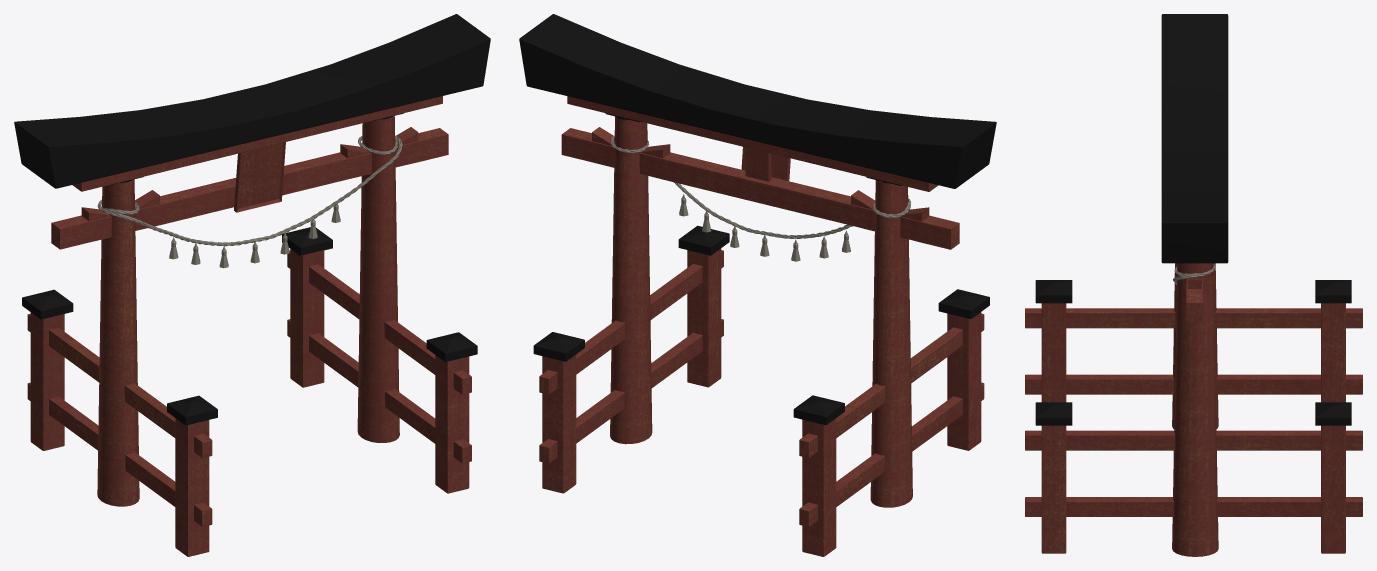
Rendered from tori_gate.fbx.
3 renders of one model, left to right at view 1: azimuth 30°, elevation 25°; view 2: azimuth 150°, elevation 25°; view 3: azimuth 270°, elevation 25°, orthographic. The views are drawn at different scales.
Visible parts, largest first — view 1: tori_gate_low; view 2: tori_gate_low; view 3: tori_gate_low.
Boxes of the visible parts, x1,y1,x2,y2 form: tori_gate_low: [14, 14, 490, 556]; tori_gate_low: [519, 14, 996, 556]; tori_gate_low: [1025, 14, 1362, 556].
Size of the model in its own units: 597 by 495 by 408.
